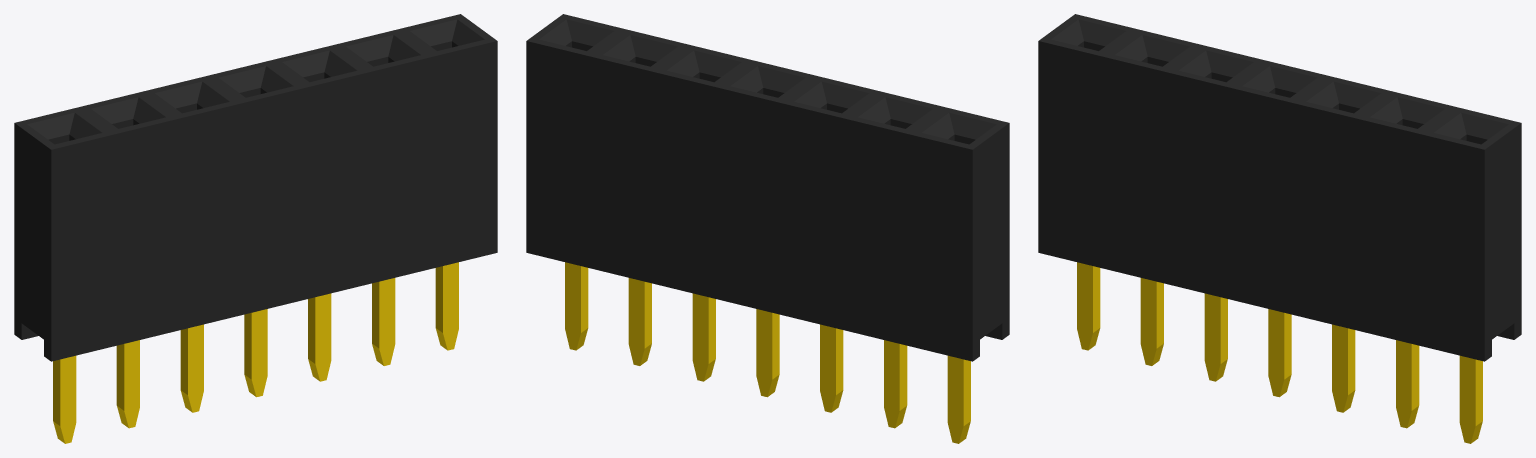
File: PBS2-7.glb
3 renders of one model, left to right at view 1: azimuth 30°, elevation 25°; view 2: azimuth 150°, elevation 25°; view 3: azimuth 330°, elevation 25°, orthographic.
Parts seen in each view (by area): view 1: PBS2 (DS1026-20 CONNFLY); view 2: PBS2 (DS1026-20 CONNFLY); view 3: PBS2 (DS1026-20 CONNFLY).
Boxes of the visible parts, <box> form: PBS2 (DS1026-20 CONNFLY): <box>14,14,497,443</box>; PBS2 (DS1026-20 CONNFLY): <box>526,14,1009,443</box>; PBS2 (DS1026-20 CONNFLY): <box>1038,14,1521,443</box>.
Size of the model in its own units: 0.014 by 0.00935 by 0.002.
